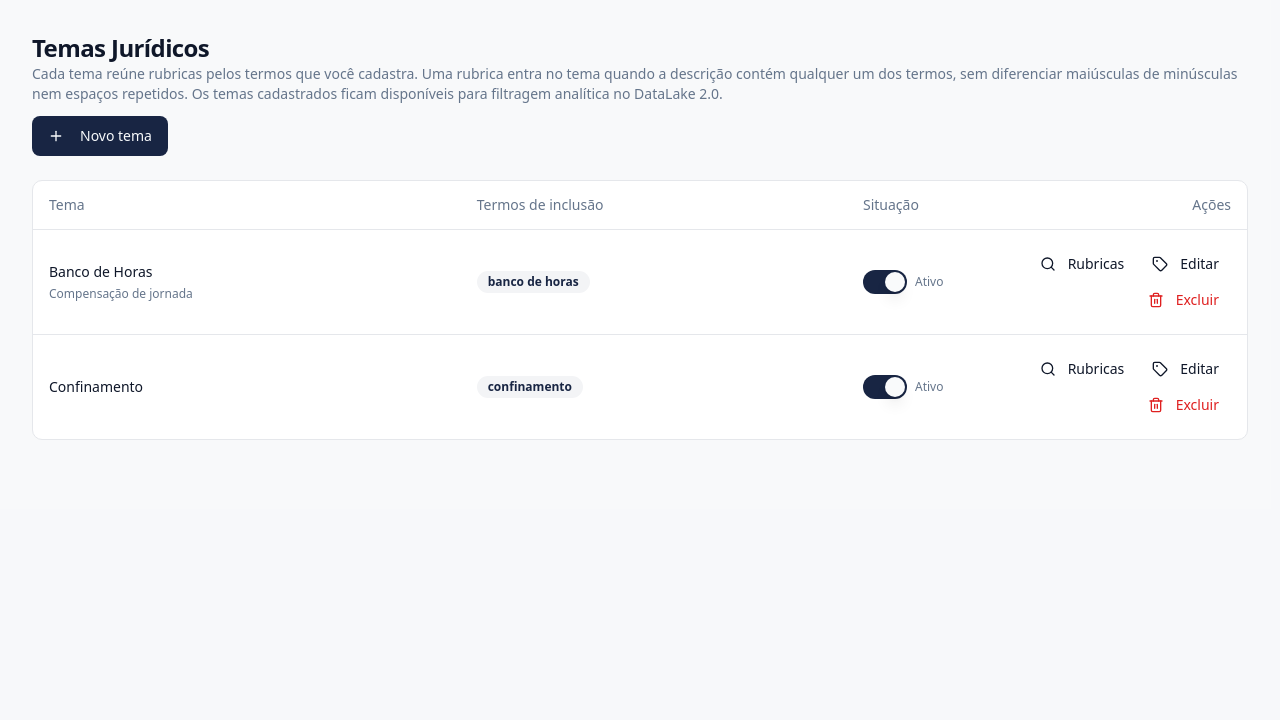
Test case: Temas — rubricas no DataLake 2.0 › mostra erro amigável quando a consulta ao DataLake 2.0 falhar
The width and height of the screenshot is (1280, 720).
Check: the text "Banco de Horas" is shown, box [49,262,152,280]
Click the 1st button "Rubricas" at point(1082, 264), box [1028,246,1136,282]
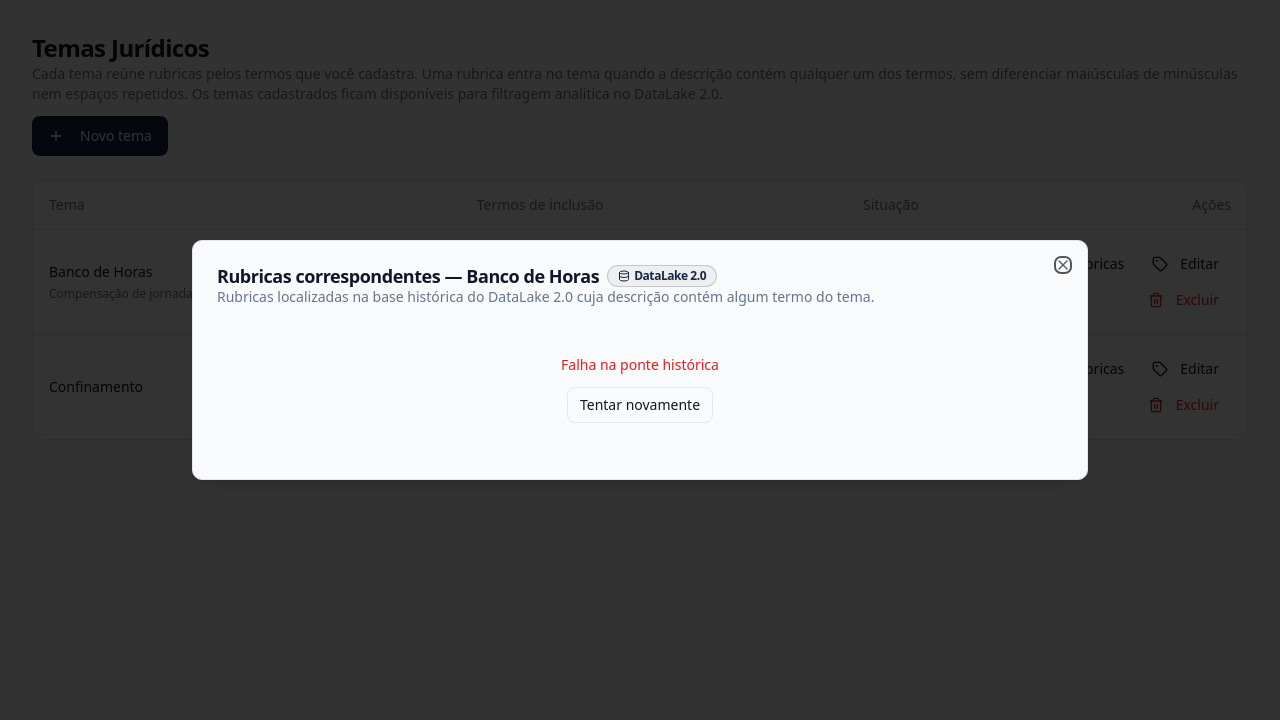
Check: the text "Falha na ponte histórica" is shown, box [561,355,719,374]
